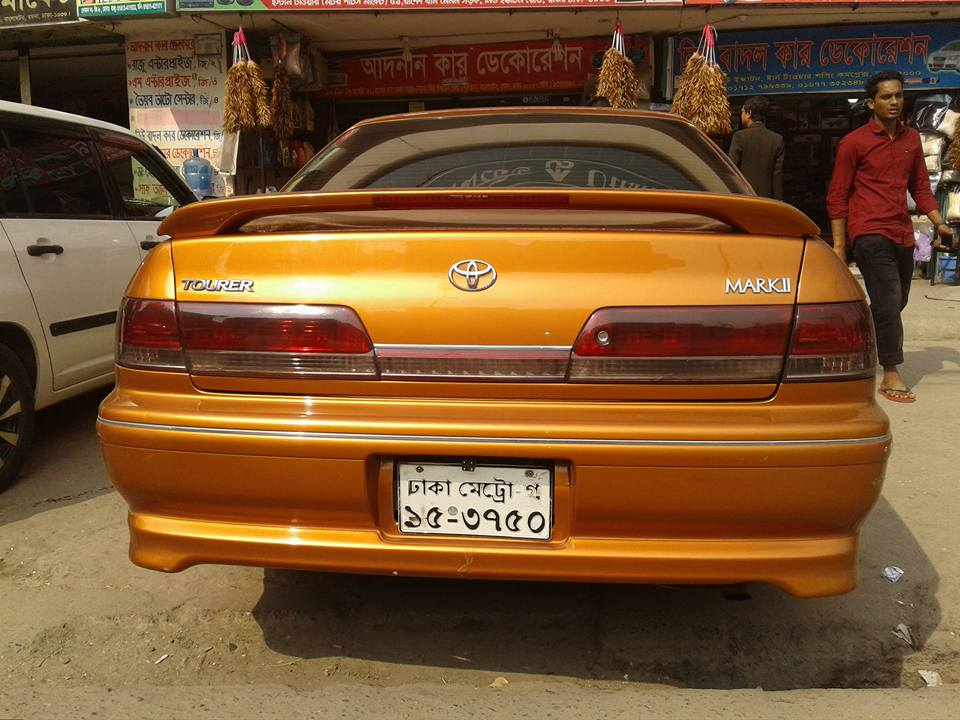registration_plate: (394, 458, 556, 543)
